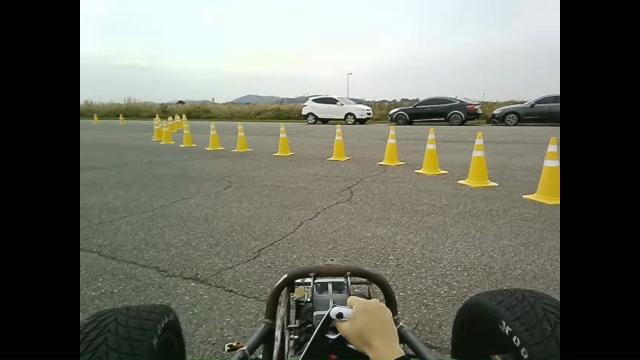yellow cone: (522, 136, 560, 205), (457, 131, 499, 187), (414, 127, 448, 175), (376, 125, 406, 166), (326, 124, 352, 161), (272, 122, 295, 156), (231, 121, 252, 152), (204, 121, 225, 150), (178, 124, 196, 147)
